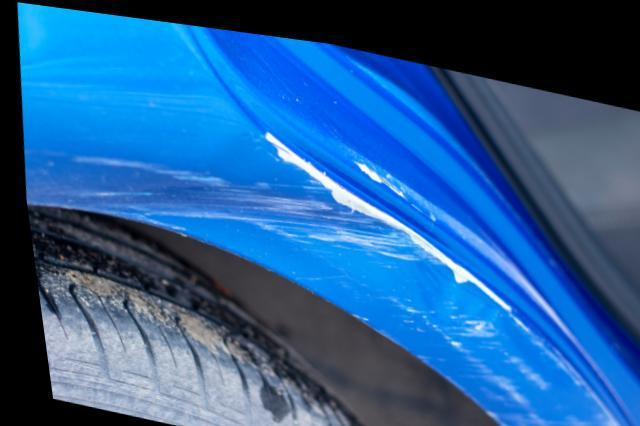dent: (210, 129, 501, 323)
scratch: (341, 294, 620, 426), (48, 149, 252, 217)
